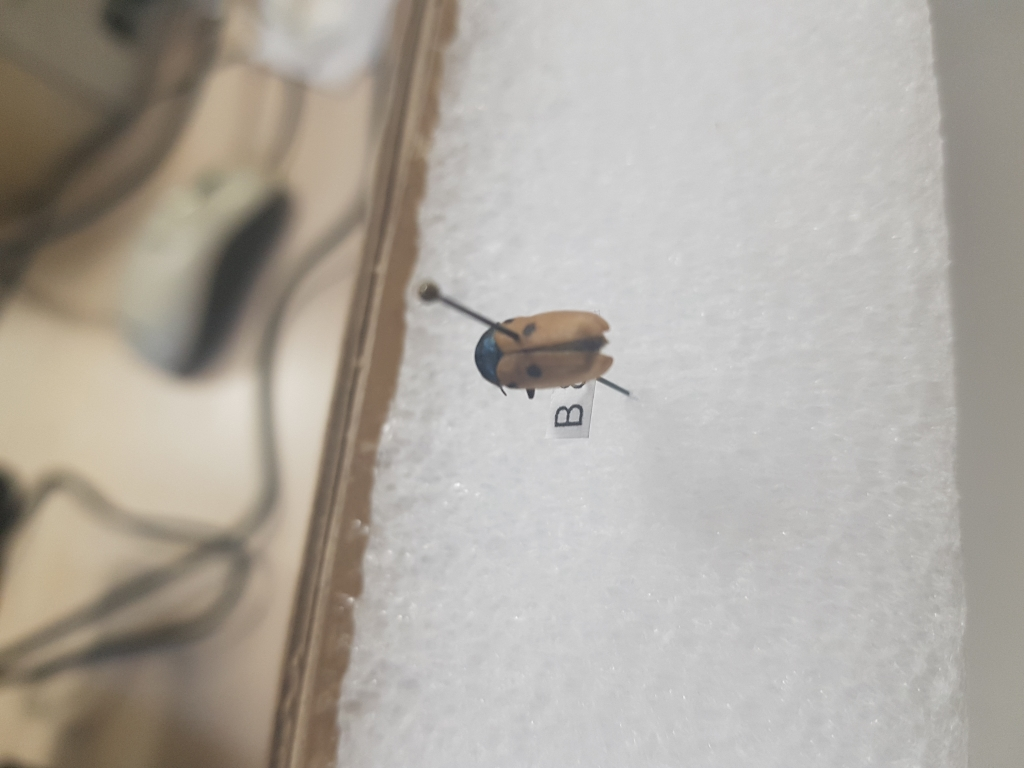Labidostomis_maculipennis: (469, 312, 622, 393)
